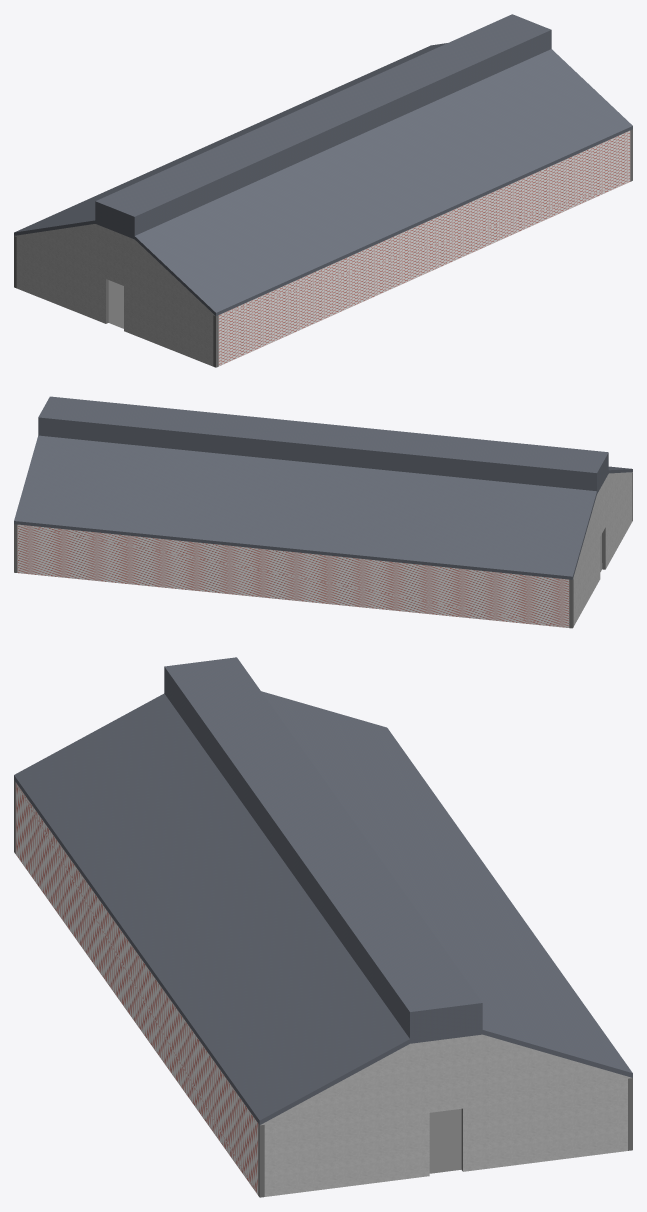
3 renders of one model, top to bottom at view 1: azimuth 30°, elevation 25°; view 2: azimuth 150°, elevation 25°; view 3: azimuth 270°, elevation 25°, orthographic. The views are drawn at different scales.
Parts seen in each view (by area): view 1: 小牛; view 2: 小牛; view 3: 小牛.
Part boxes in pixels (x1,y1,x2,y2): 小牛: (14,14,632,367); 小牛: (14,396,632,628); 小牛: (14,657,632,1197).
Size of the model in its own units: 26.64 by 5.26 by 17.73.
Materials: 4 (3 with a texture image).
